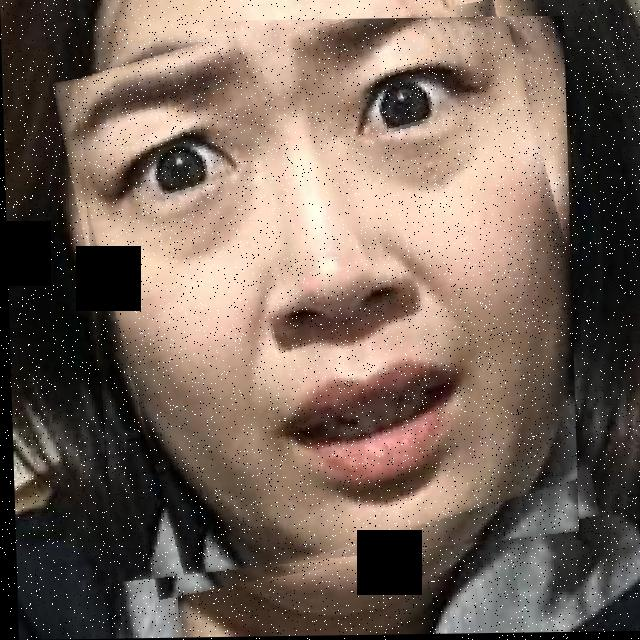fear: (72, 17, 577, 583)
